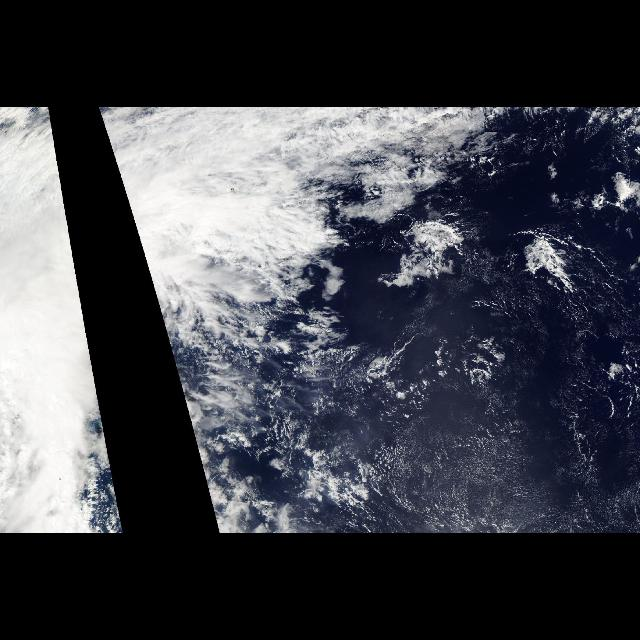Fish: (364, 202, 598, 308)
Sugar: (366, 396, 640, 532)
